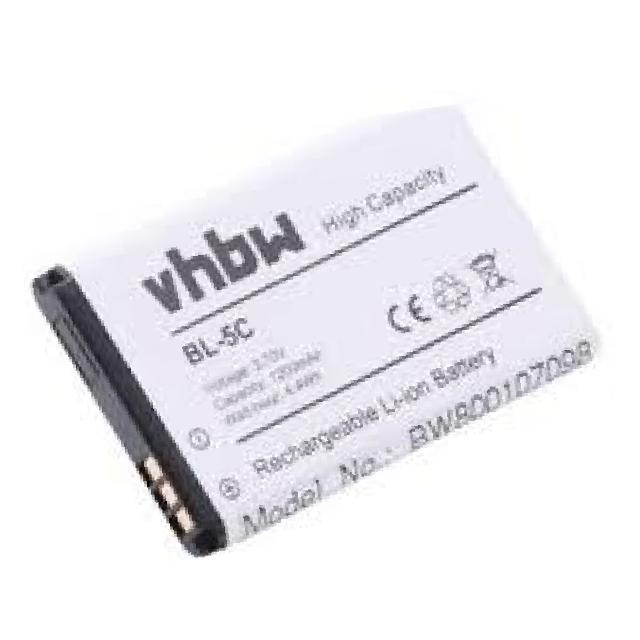Battery: (24, 76, 628, 569)
